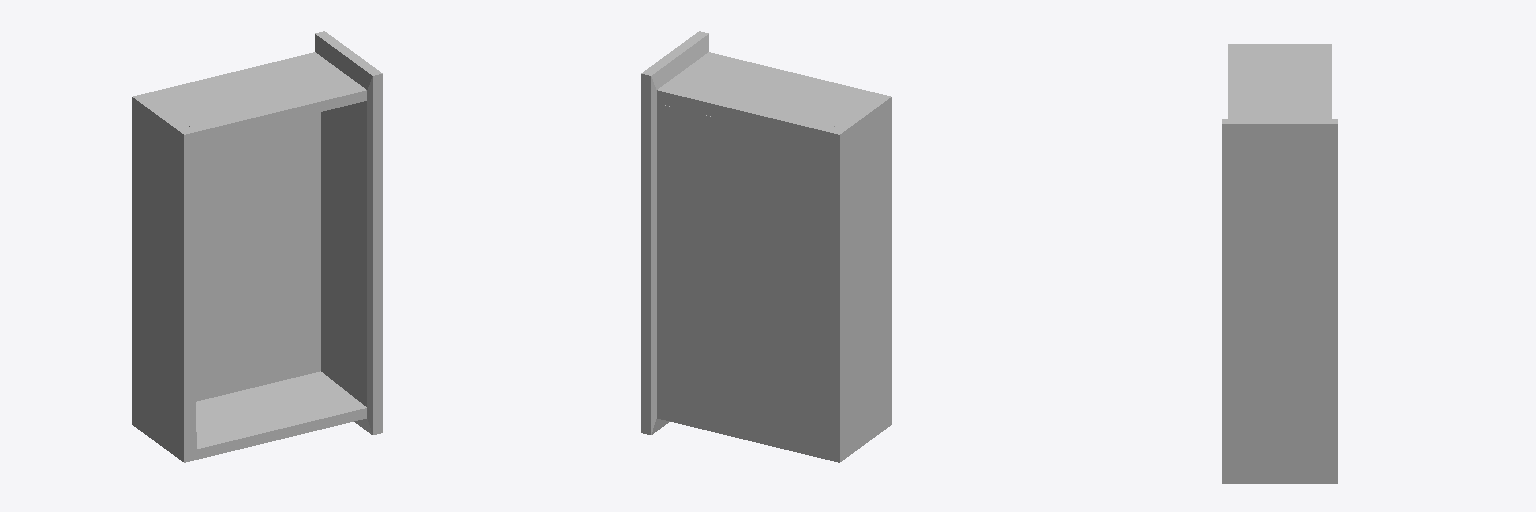
The model's file is Drawer_100_29.obj.
The picture shows the model from 3 angles: view 1: azimuth 30°, elevation 25°; view 2: azimuth 150°, elevation 25°; view 3: azimuth 270°, elevation 25°; orthographic projection.
Parts seen in each view (by area): view 1: Shape_IndexedFaceSet_Shape_IndexedFaceSet.115; view 2: Shape_IndexedFaceSet_Shape_IndexedFaceSet.115; view 3: Shape_IndexedFaceSet_Shape_IndexedFaceSet.115.
Part boxes in pixels (left/top/right/bottom): Shape_IndexedFaceSet_Shape_IndexedFaceSet.115: left=132, top=31, right=382, bottom=462; Shape_IndexedFaceSet_Shape_IndexedFaceSet.115: left=641, top=31, right=891, bottom=462; Shape_IndexedFaceSet_Shape_IndexedFaceSet.115: left=1222, top=44, right=1337, bottom=483.
Size of the model in its own units: 0.5707 by 1 by 0.2926.